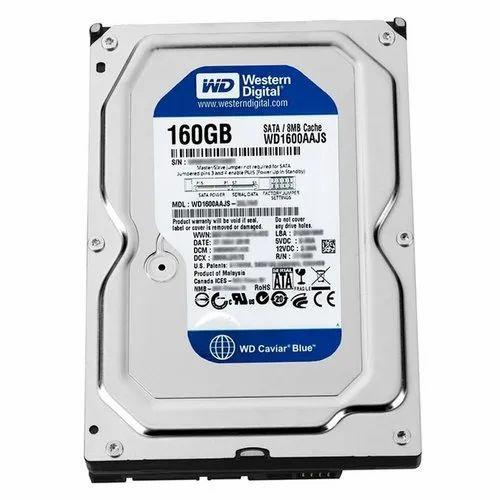internal HDD: (83, 23, 423, 482)
